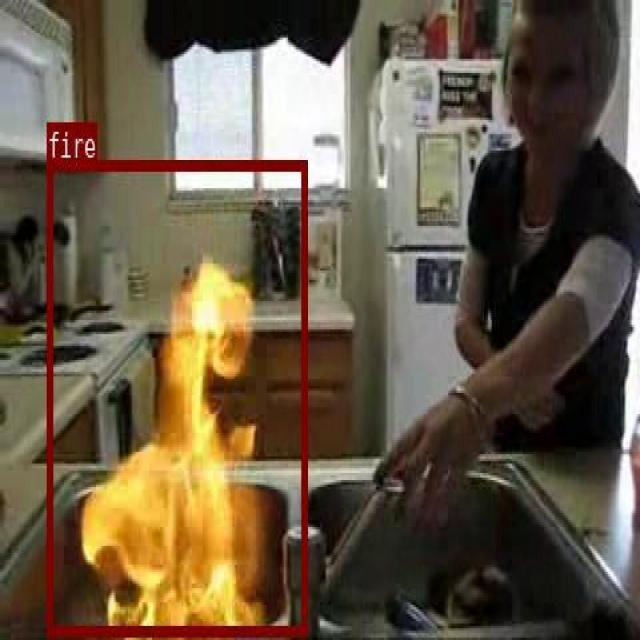fire: (46, 159, 307, 635)
